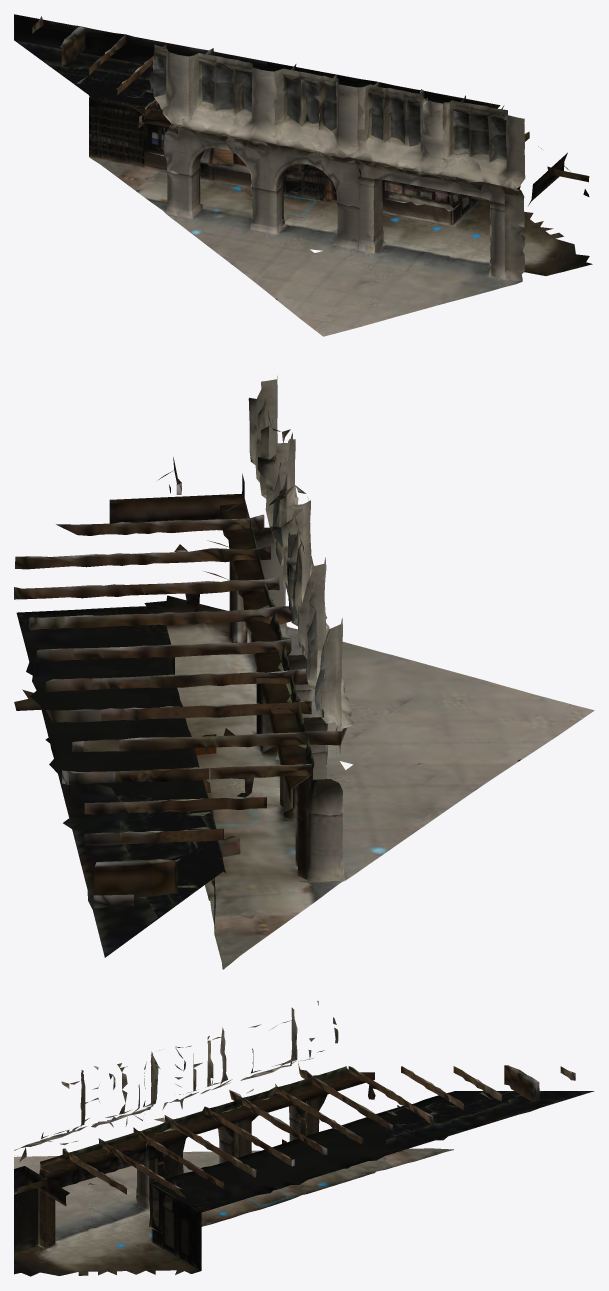
The picture shows the model from 3 angles, top to bottom: view 1: azimuth 30°, elevation 25°; view 2: azimuth 150°, elevation 25°; view 3: azimuth 270°, elevation 25°; orthographic projection. The views are drawn at different scales.
Bounding box in the file's own units: 14.94 × 8.74 × 29.03.
1 material, 1 textured.
